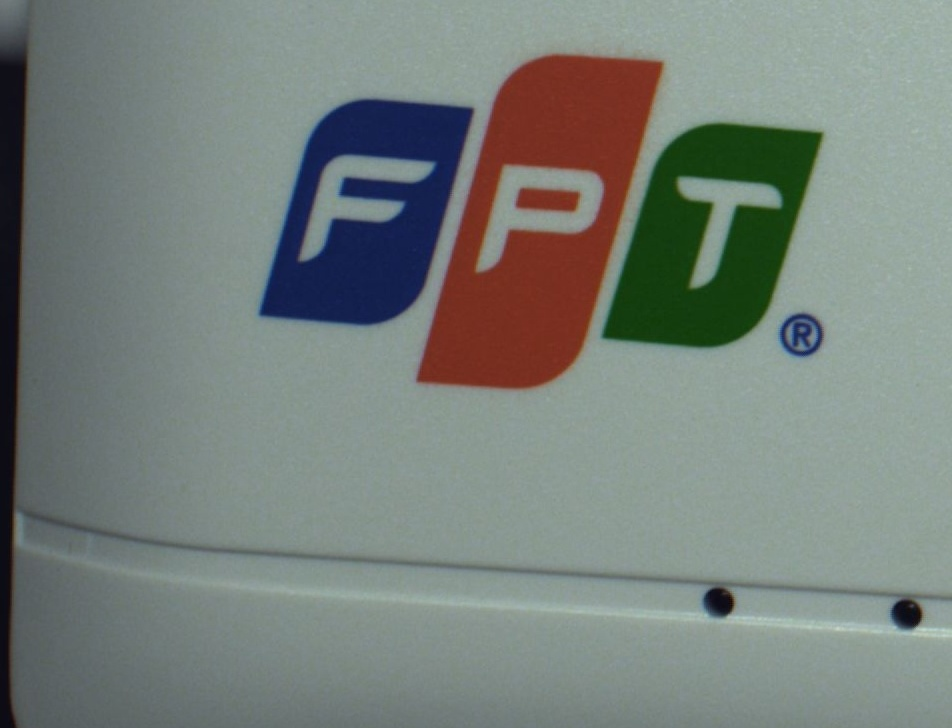BR_FPT: (252, 46, 838, 389)
